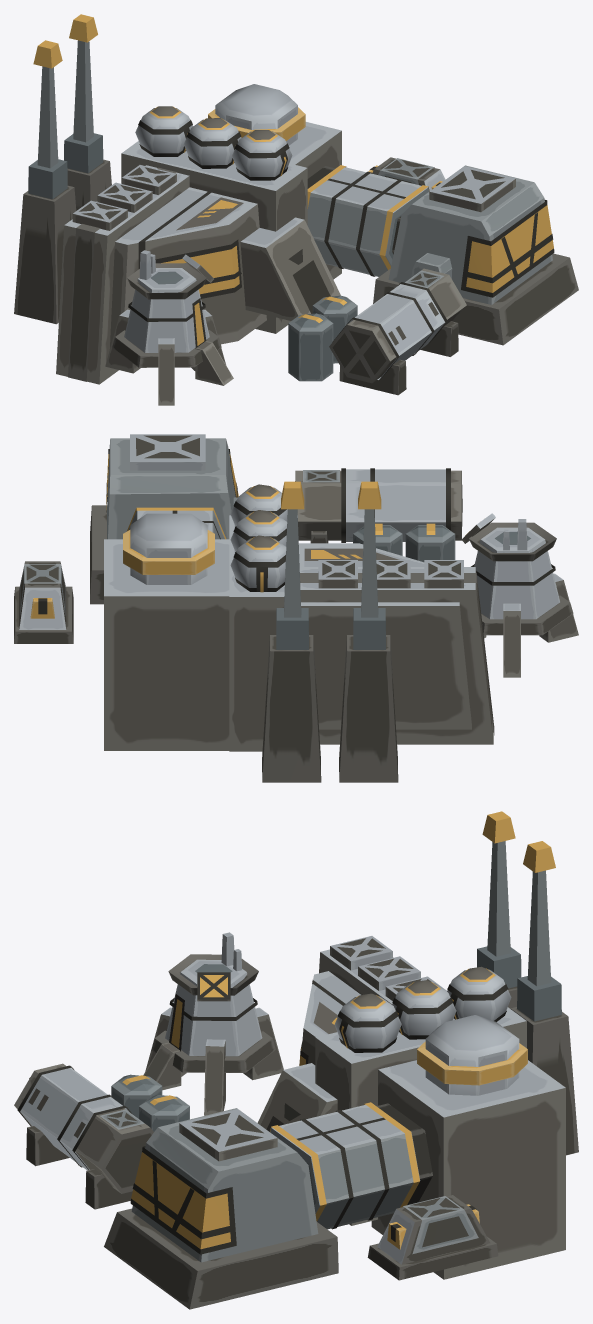
File: supplydepot3.FBX
3 renders of one model, top to bottom at view 1: azimuth 30°, elevation 25°; view 2: azimuth 150°, elevation 25°; view 3: azimuth 270°, elevation 25°, orthographic. The views are drawn at different scales.
Visible parts, largest first — view 1: supplydepot3, a, 1, 3, 2, 6, 5, 4, b; view 2: supplydepot3, 3, b, 2, 1, 6, 4, a, 5; view 3: supplydepot3, a, 1, 2, 3, b, 6, 5, c.
Boxes of the visible parts, left/top/right/bottom form: supplydepot3: left=14, top=14, right=578, bottom=405; a: left=307, top=165, right=429, bottom=276; 1: left=232, top=130, right=292, bottom=180; 3: left=135, top=106, right=193, bottom=156; 2: left=183, top=118, right=241, bottom=168; 6: left=72, top=200, right=127, bottom=230; 5: left=97, top=182, right=152, bottom=212; 4: left=121, top=165, right=176, bottom=194; b: left=208, top=107, right=305, bottom=140; supplydepot3: left=14, top=434, right=578, bottom=782; 3: left=230, top=535, right=286, bottom=592; b: left=123, top=530, right=214, bottom=574; 2: left=230, top=510, right=287, bottom=552; 1: left=230, top=484, right=287, bottom=527; 6: left=424, top=560, right=463, bottom=588; 4: left=318, top=560, right=357, bottom=588; a: left=127, top=507, right=226, bottom=539; 5: left=376, top=560, right=410, bottom=588; supplydepot3: left=14, top=811, right=578, bottom=1309; a: left=270, top=1102, right=420, bottom=1229; 1: left=334, top=993, right=401, bottom=1052; 2: left=392, top=980, right=456, bottom=1039; 3: left=447, top=966, right=511, bottom=1021; b: left=417, top=1041, right=527, bottom=1085; 6: left=330, top=936, right=392, bottom=970; 5: left=358, top=956, right=420, bottom=990; c: left=197, top=972, right=230, bottom=1001.
Bounding box in the file's own units: 157 × 151 × 92.38.
